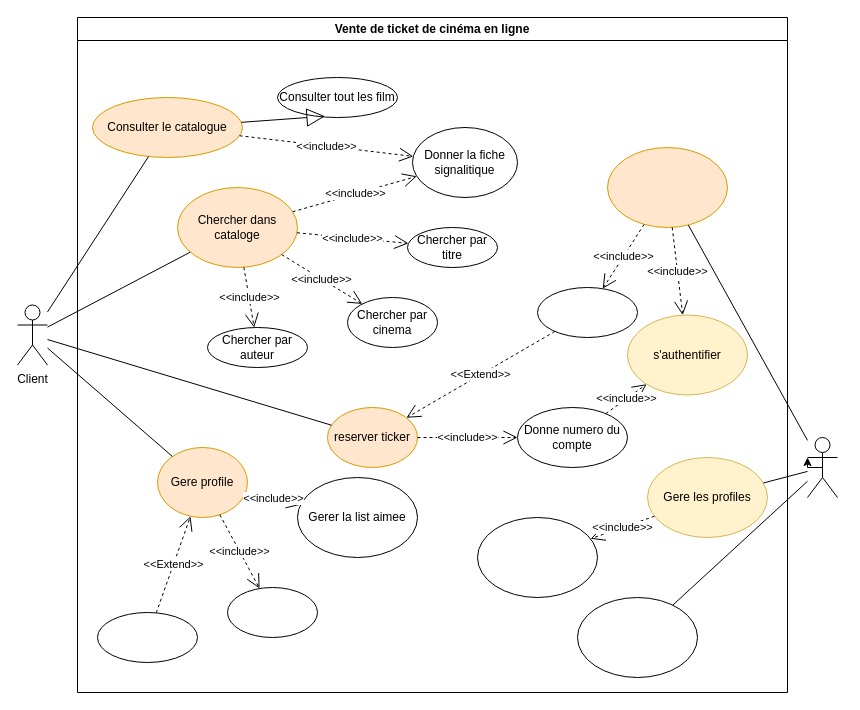
The diagram is 860 pixels wide and 710 high, and some of its shapes have lost their labels. Here are the shapes that lost their labels. From the top down, the centre of each, then its label:
At point (667, 187): "manage transactions".
At point (587, 312): "get reductions".
At point (822, 467): "System".
At point (537, 557): "Donner les recommendation".
At point (272, 612): "Partager & recommender".
At point (147, 637): "Cree un compte".
At point (637, 637): "Gere cataloge".
